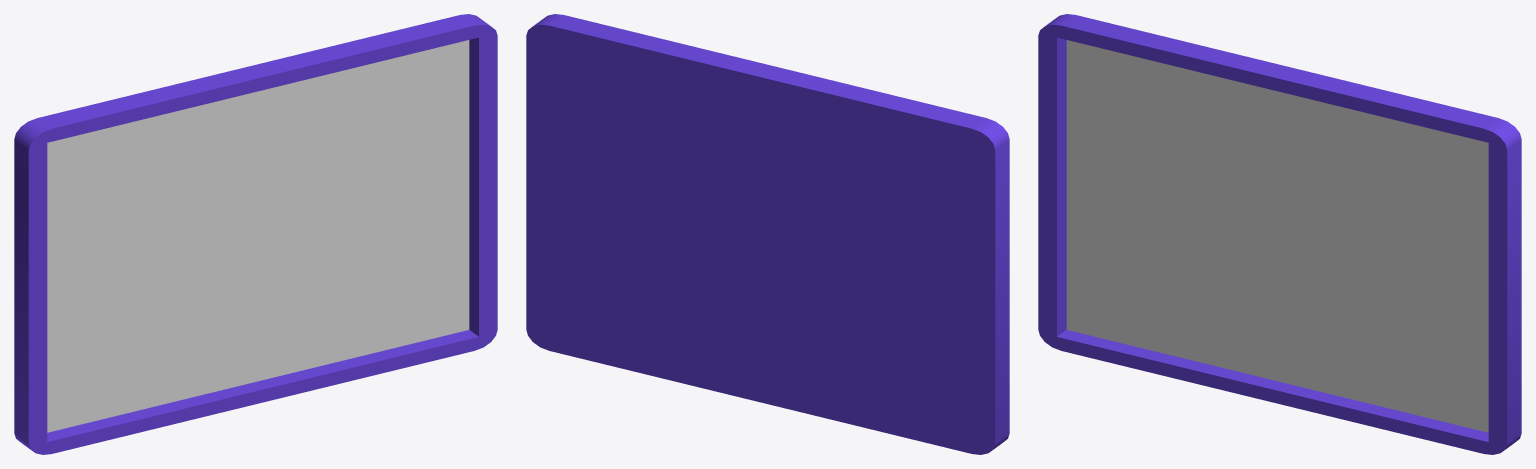
The picture shows the model from 3 angles, left to right: view 1: azimuth 30°, elevation 25°; view 2: azimuth 150°, elevation 25°; view 3: azimuth 330°, elevation 25°; orthographic projection.
Visible parts, largest first — view 1: Cube.001; view 2: Cube.001; view 3: Cube.001.
Part boxes in pixels (<box>): Cube.001: <box>14,14,497,454</box>; Cube.001: <box>526,14,1009,454</box>; Cube.001: <box>1038,14,1521,454</box>.
Bounding box in the file's own units: 302 × 200 × 16.24.
